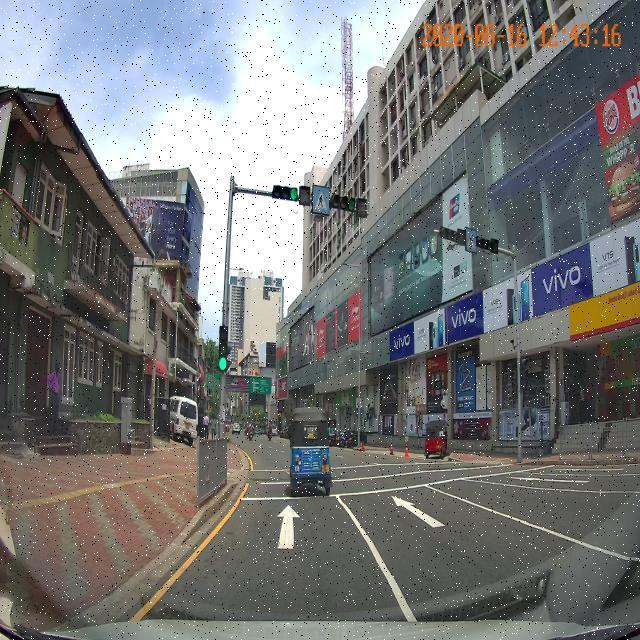forward: (188, 498, 385, 556)
